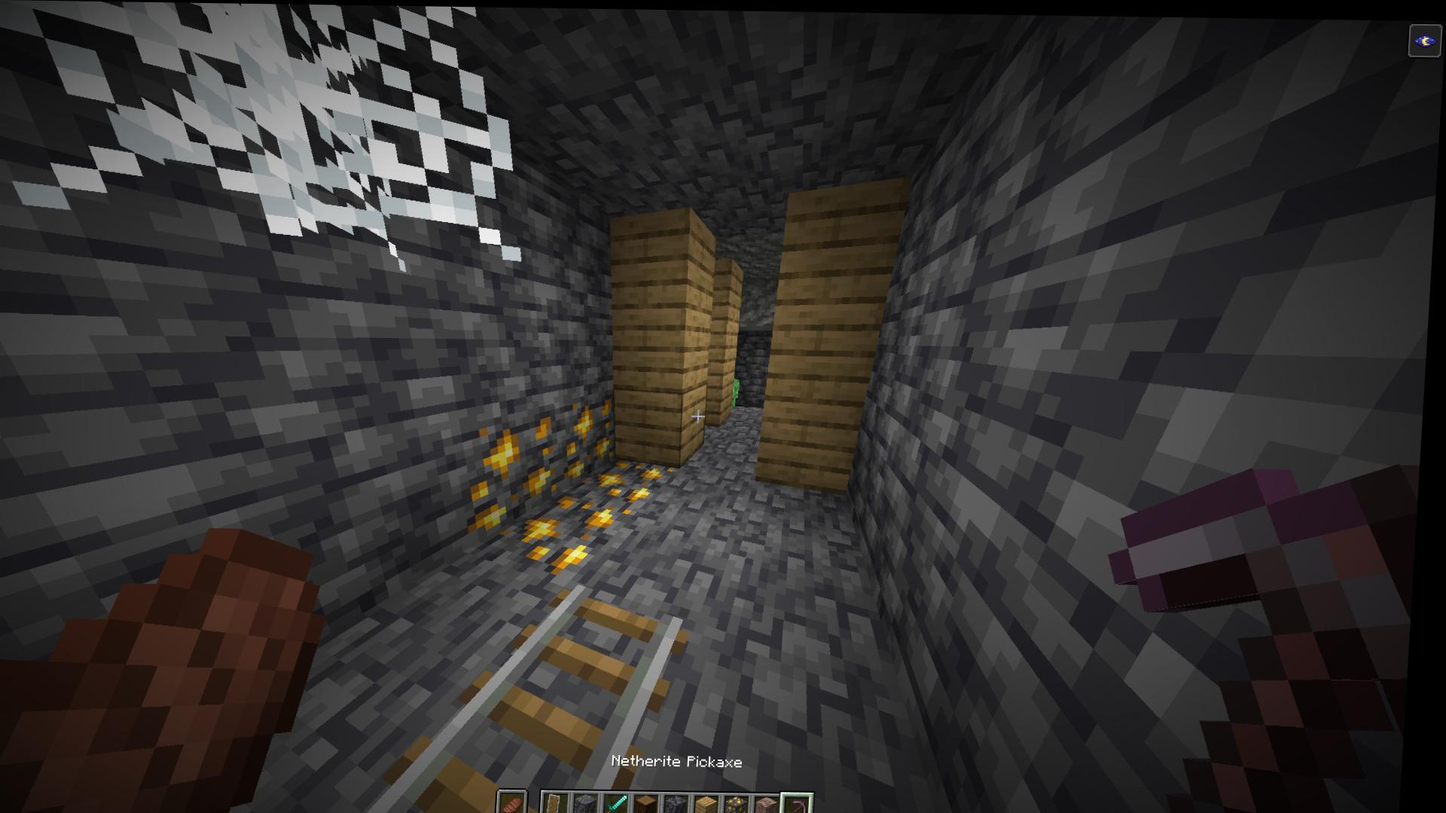gold ore: (471, 411, 566, 528), (503, 492, 627, 570), (565, 392, 624, 473), (588, 452, 683, 502)
